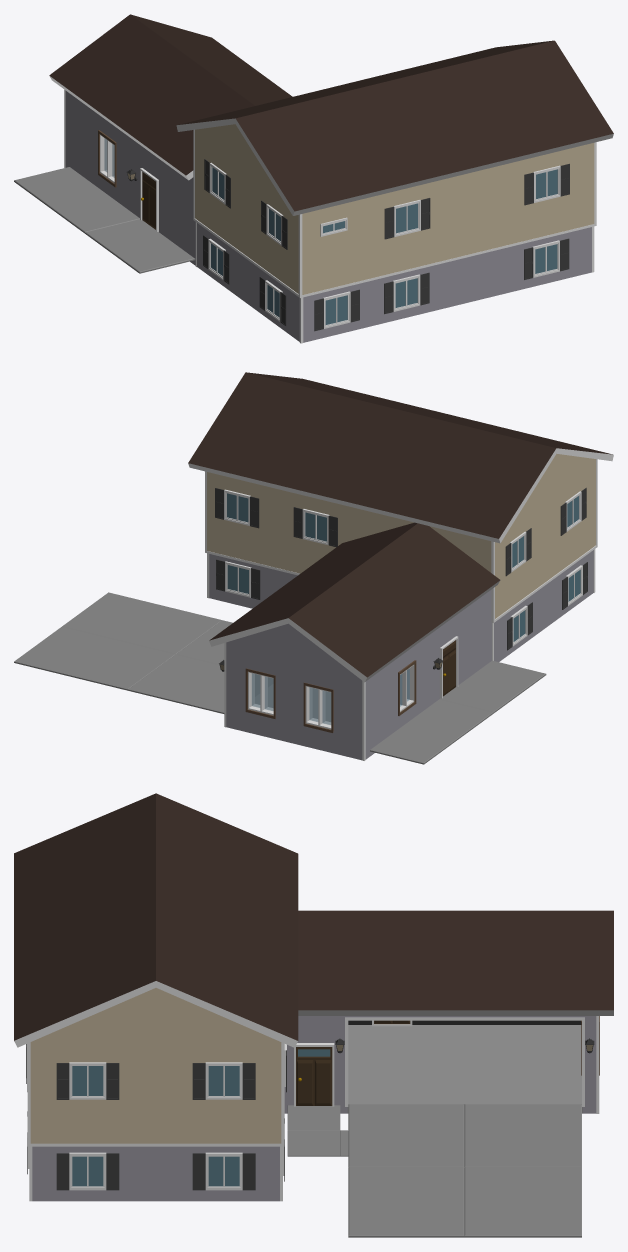
File: House_Yellow.fbx
The picture shows the model from 3 angles, top to bottom: view 1: azimuth 30°, elevation 25°; view 2: azimuth 150°, elevation 25°; view 3: azimuth 270°, elevation 25°; orthographic projection. The views are drawn at different scales.
Visible parts, largest first — view 1: House_Yellow; view 2: House_Yellow; view 3: House_Yellow.
Part boxes in pixels (x1=…): House_Yellow: x1=14, y1=14, x2=613, y2=343; House_Yellow: x1=14, y1=372, x2=613, y2=764; House_Yellow: x1=14, y1=793, x2=613, y2=1237.
Size of the model in its own units: 63.8 by 27.36 by 65.15.
